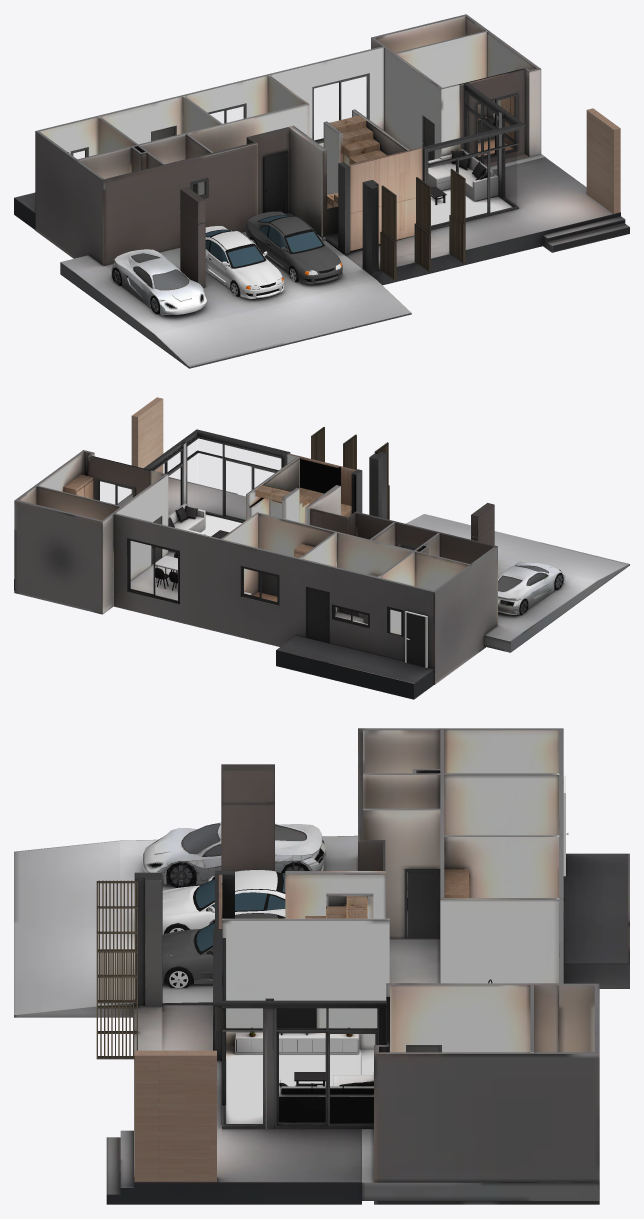
The model's file is SH2510_1stFloorBaked_v05.gltf.
3 renders of one model, top to bottom at view 1: azimuth 30°, elevation 25°; view 2: azimuth 150°, elevation 25°; view 3: azimuth 270°, elevation 25°, orthographic. The views are drawn at different scales.
Parts seen in each view (by area): view 1: pCube47, Cube.004, polySurface2.003, Window05.004, Car_2, Cube.002, Cube.013, car1, Car_1.002, pCube35, Door1, Black_mat1_02 (+2 smaller); view 2: pCube47, polySurface2.003, Cube.004, Window05.004, Door1, car1, pCube35, Cube.002, Cube.013, Black_mat1_02, polySurface59.001, closet1; view 3: pCube47, polySurface2.003, Cube.004, Window05.004, pCube35, car1, Cube.013, Car_1.002, Black_mat1_02, Car_2, Door1, Cabinet03.009 (+3 smaller).
Part boxes in pixels (<box>): pCube47: <box>35,14,541,265</box>; Cube.004: <box>60,154,545,368</box>; polySurface2.003: <box>14,111,629,287</box>; Window05.004: <box>70,73,525,272</box>; Car_2: <box>246,211,342,284</box>; Cube.002: <box>348,147,422,250</box>; Cube.013: <box>380,168,465,279</box>; car1: <box>111,249,206,315</box>; Car_1.002: <box>205,226,284,298</box>; pCube35: <box>586,108,620,213</box>; Door1: <box>151,116,434,213</box>; Black_mat1_02: <box>428,149,498,201</box>; pCube47: <box>14,450,497,684</box>; polySurface2.003: <box>117,442,494,699</box>; Cube.004: <box>14,514,629,652</box>; Window05.004: <box>97,429,416,636</box>; Door1: <box>151,516,425,667</box>; car1: <box>498,561,565,615</box>; pCube35: <box>131,397,163,493</box>; Cube.002: <box>287,453,355,505</box>; Cube.013: <box>311,427,389,519</box>; Black_mat1_02: <box>168,503,205,551</box>; polySurface59.001: <box>255,485,351,516</box>; closet1: <box>63,474,314,557</box>; pCube47: <box>222,728,599,1204</box>; polySurface2.003: <box>106,764,629,1204</box>; Cube.004: <box>14,835,599,1200</box>; Window05.004: <box>134,870,389,1128</box>; pCube35: <box>134,1050,216,1182</box>; car1: <box>143,822,325,887</box>; Cube.013: <box>96,880,137,1059</box>; Car_1.002: <box>162,869,285,934</box>; Black_mat1_02: <box>279,1072,373,1122</box>; Car_2: <box>162,913,285,987</box>; Door1: <box>404,869,565,1052</box>; Cabinet03.009: <box>234,1032,359,1054</box>.
Bounding box in the file's own units: 18.2 × 3.69 × 13.65.
29 materials, 26 textured.
